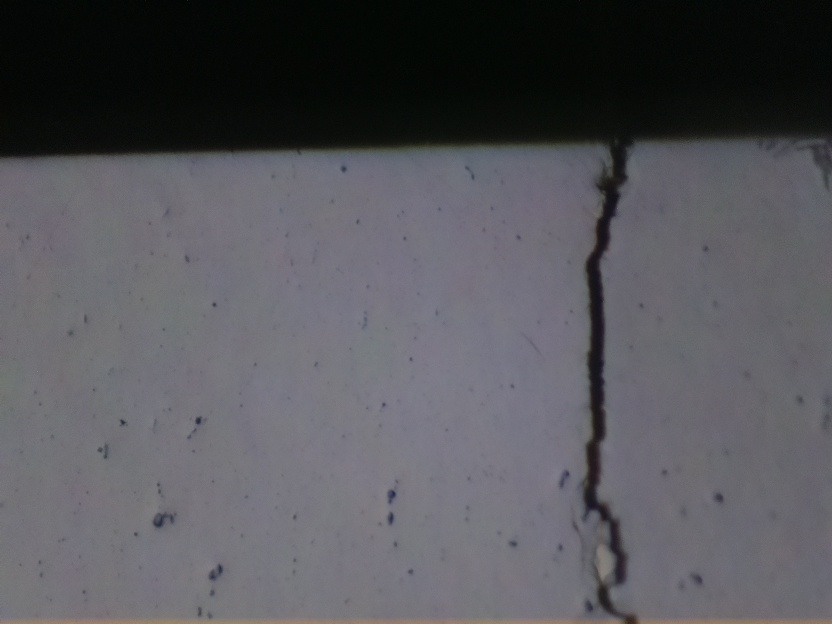crack: (580, 141, 640, 624)
